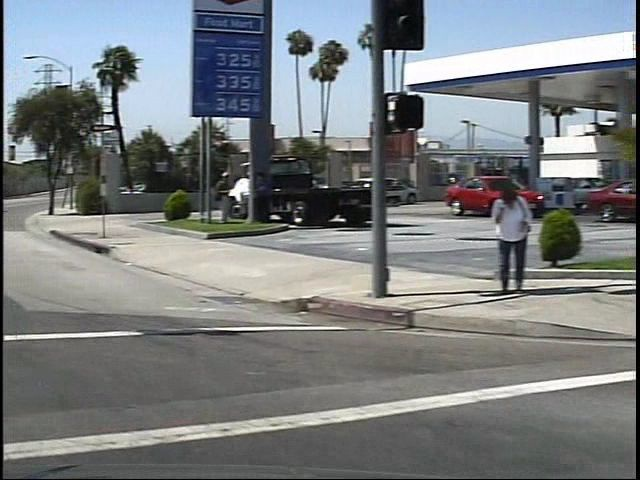person: (475, 179, 520, 299), (204, 170, 227, 229)
